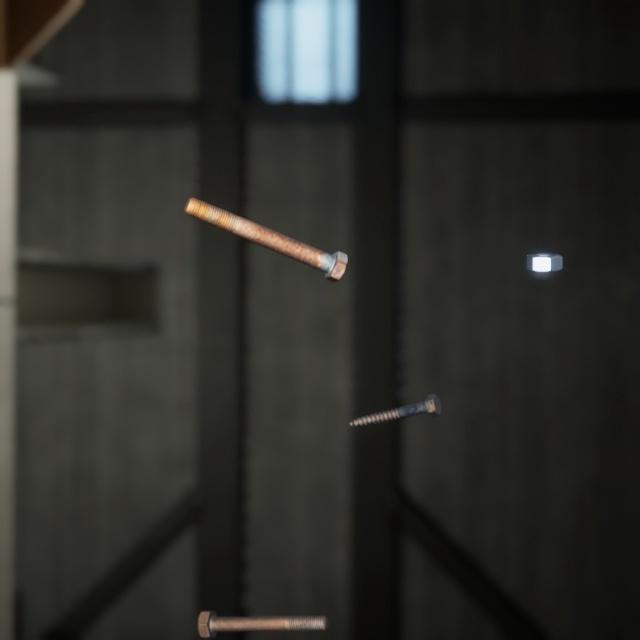bolt: (179, 176, 352, 270), (193, 582, 332, 618), (345, 369, 446, 412)
nut: (522, 232, 566, 260)
